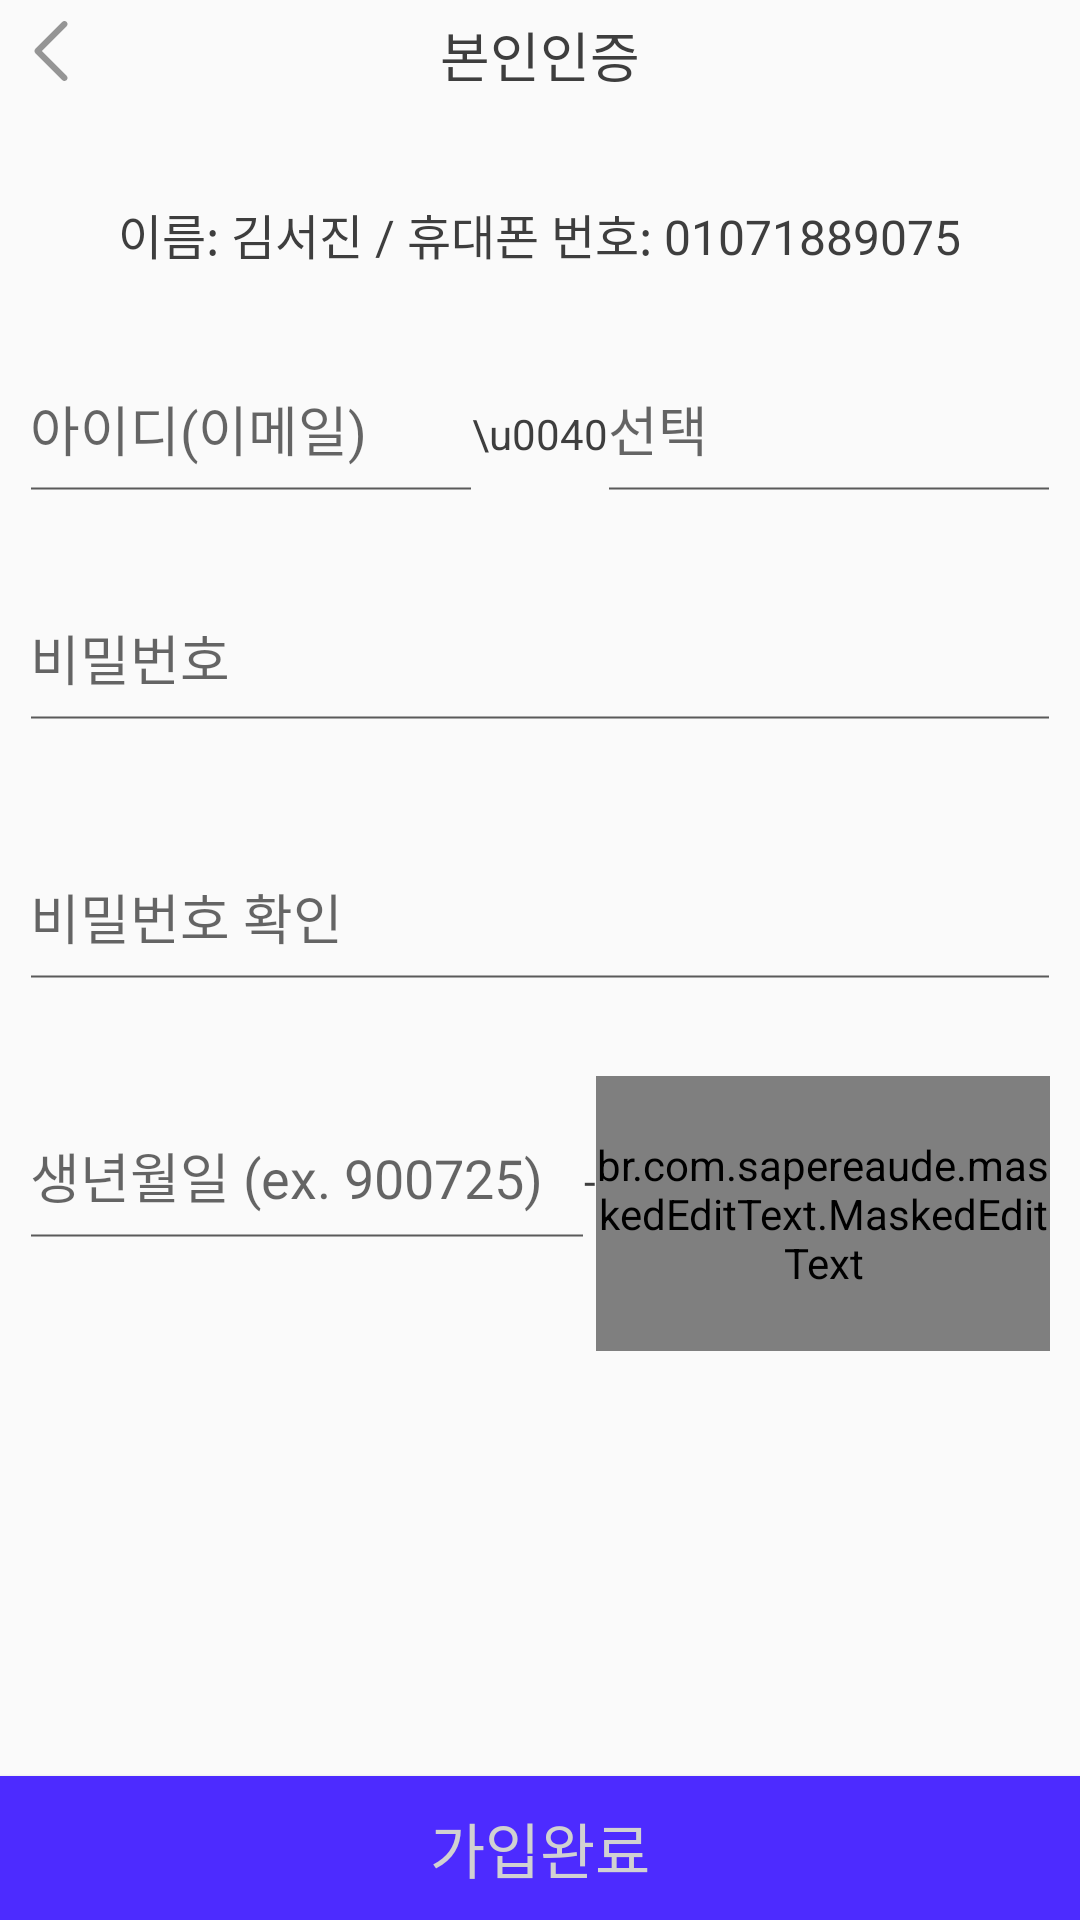

Icons on this 1080w x 1920h Android screen, each with the point to tap as [x,y]:
chevron left: [51,51]
